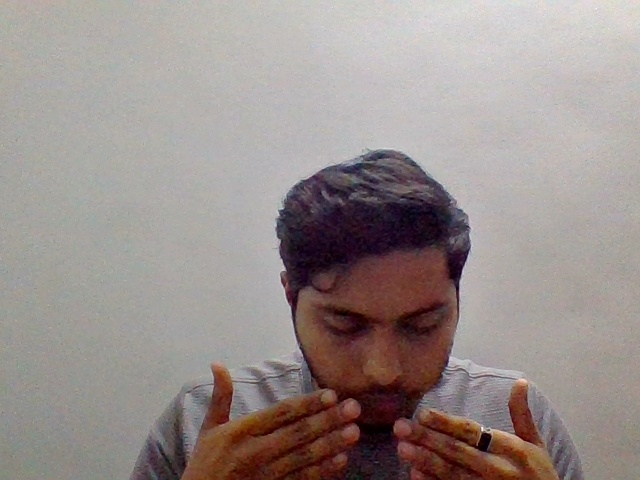Thanks: (170, 358, 573, 480)
